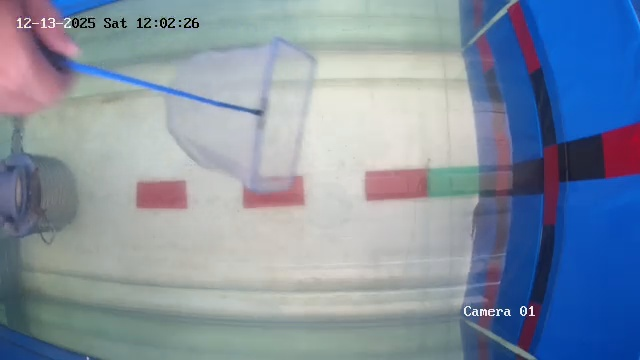fish: (466, 197, 490, 239)
